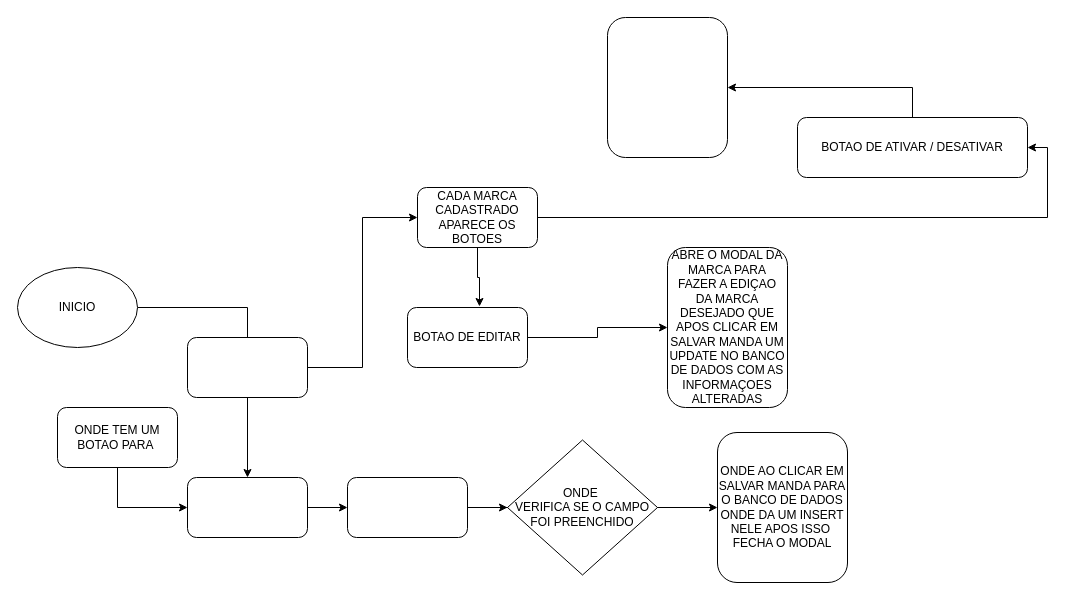
The diagram is 1073 pixels wide and 600 high, and some of its shapes have lost their labels. Here are the shapes that lost their labels. From the top down, the centre of each, then its label:
At point (667, 87): "DESATIVA OU ATIVA A MARCA EM QUESTAO APARECENDO UM ALERTA".
At point (247, 367): "APARECE A LISTAGEM DOS MARCAS".
At point (247, 507): "CADASTRAR MARCA".
At point (407, 507): "ABRE MODAL ONDE SE DEVE CADASTRA UMA MARCA".
